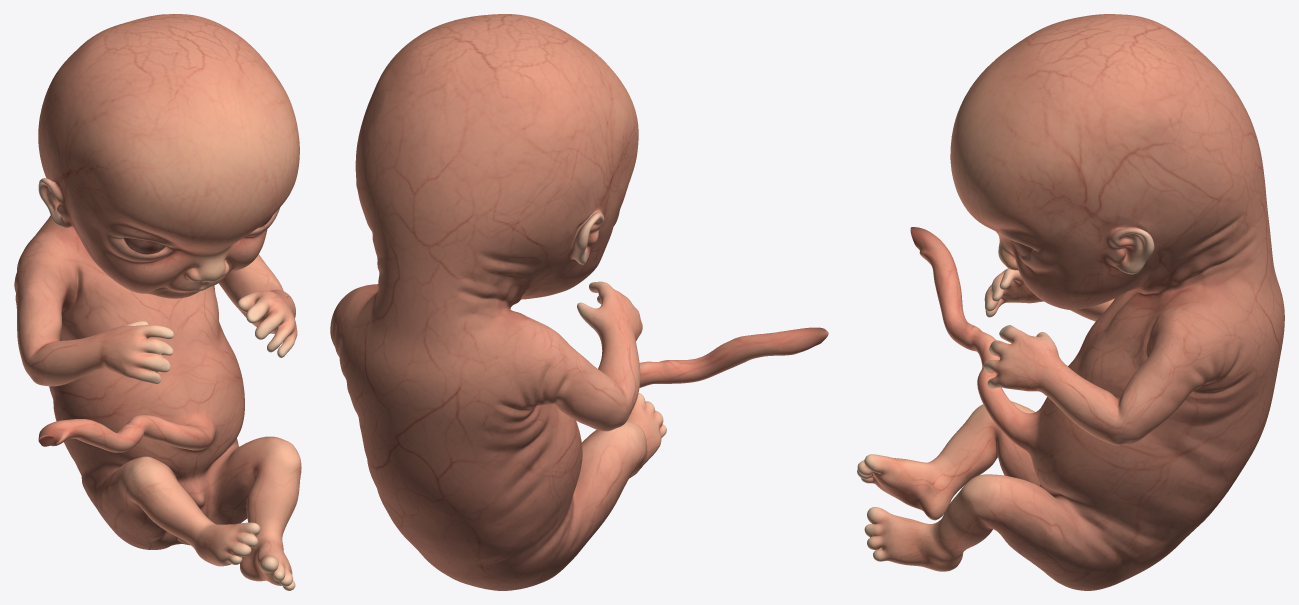
The model's file is semaine-12.glb.
The picture shows the model from 3 angles, left to right: view 1: azimuth 30°, elevation 25°; view 2: azimuth 150°, elevation 25°; view 3: azimuth 270°, elevation 25°; orthographic projection. The views are drawn at different scales.
Bounding box in the file's own units: 1.34 × 1.9 × 1.35.
Materials: 1 (1 with a texture image).
